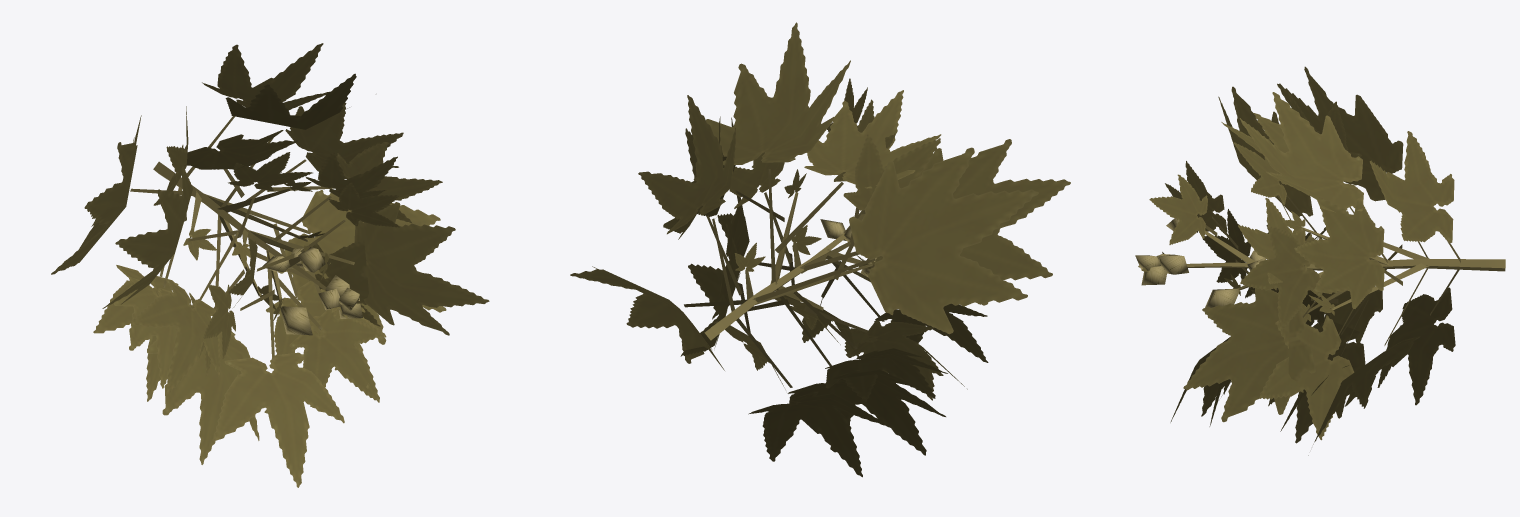
The model's file is p_male_kush_preflower_c2_cards.obj.
3 views of the same model, side by side, from view 1: azimuth 30°, elevation 25°; view 2: azimuth 150°, elevation 25°; view 3: azimuth 270°, elevation 25° (orthographic). The views are drawn at different scales.
Size of the model in its own units: 1.7 by 1.39 by 1.12.
Materials: 1 (1 with a texture image).
